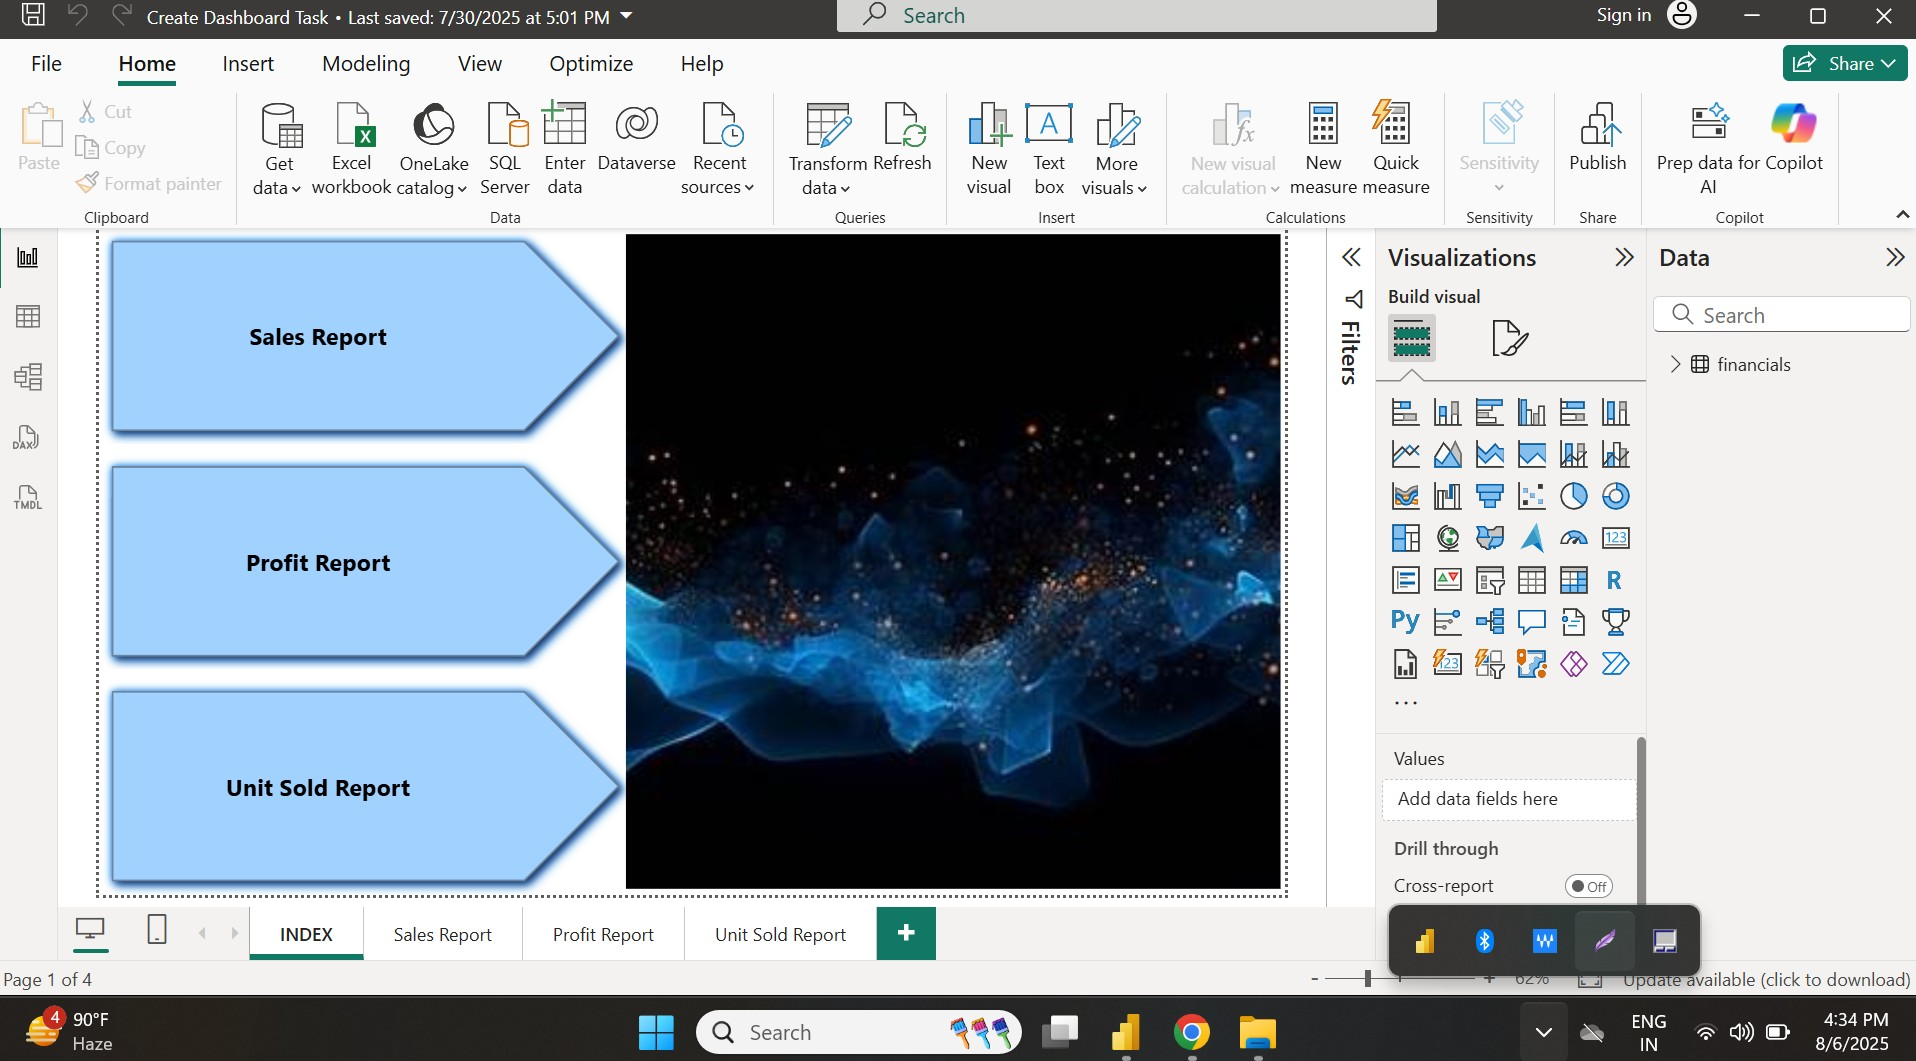

The page's visual inventory and layout, read from the dashboard file:
{"tool":"powerbi","page":{"name":"INDEX","canvas":[1280,720],"ordinal":0},"visuals":[{"type":"pageNavigator","box":[0,0,576.4,720.6],"z":0},{"type":"image","box":[563.3,0,716.7,720],"z":1}]}

Visuals, with their boxes on the page's 1280x720 design canvas (x1, y1, x2, y2). These are canvas units, not pixel positions in the 1916x1061 screenshot, which may show the page scaled, cropped or inside an application window:
pageNavigator: pyautogui.locateOnScreen(0, 0, 576, 721)
image: pyautogui.locateOnScreen(563, 0, 1280, 720)
